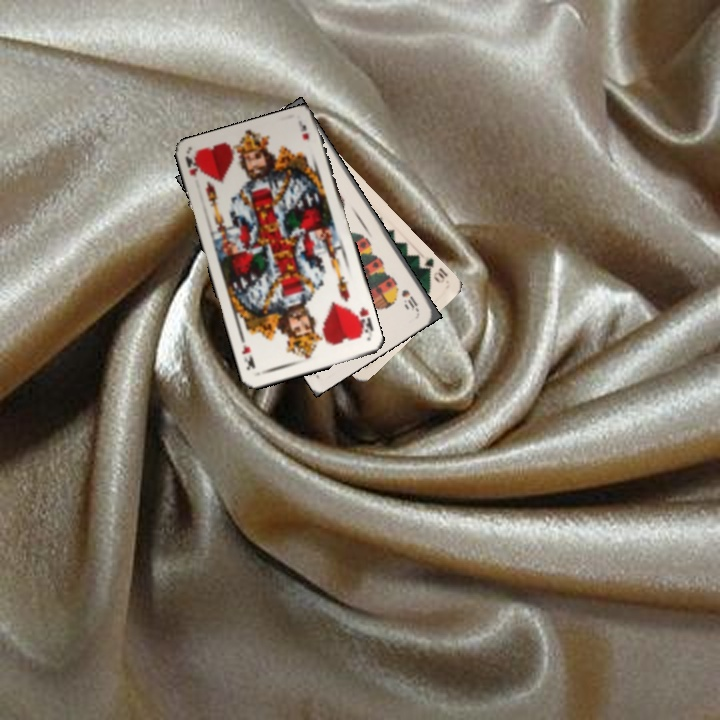G10: (414, 254, 450, 286)
HK: (350, 303, 376, 339), (182, 151, 204, 179)
S10: (397, 285, 421, 313)
